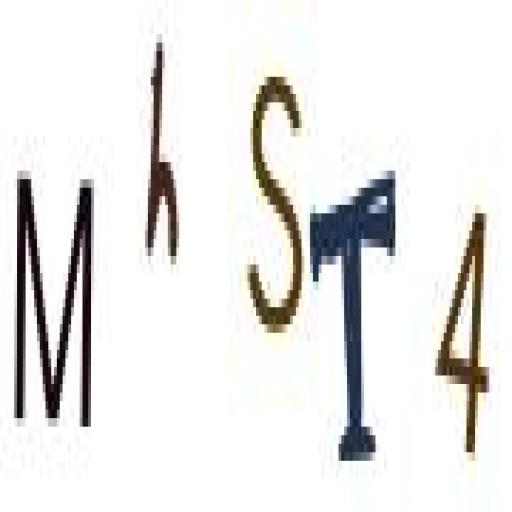4: (430, 186, 496, 474)
M: (11, 163, 95, 441)
S: (239, 51, 306, 354)
T: (304, 158, 400, 483)
h: (140, 27, 182, 278)
